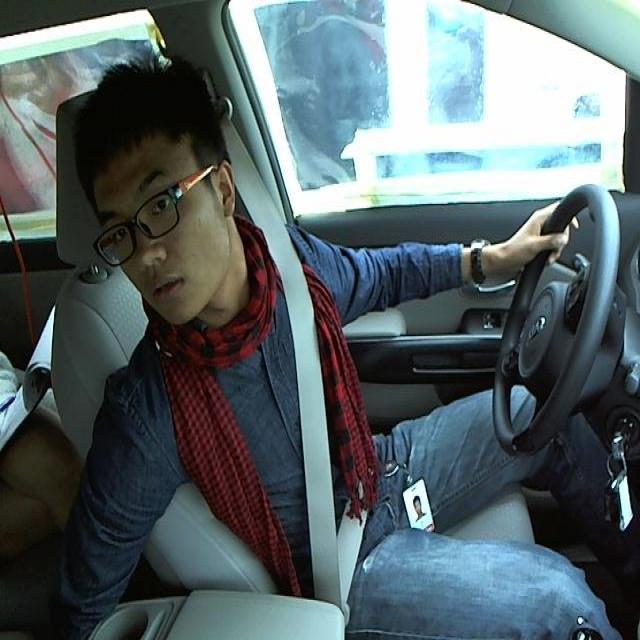seatbelt: (261, 235, 371, 617)
